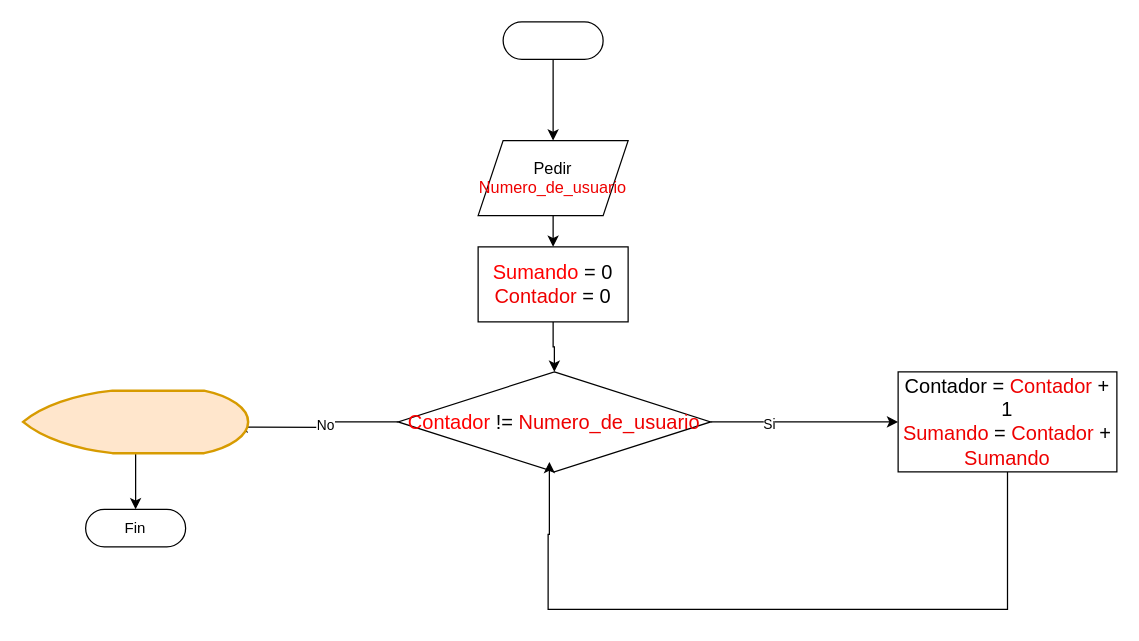
Image size: 1139x641. Some labels were removed from this diagram. The box of each missing label's shape, as (x1, y1, x2, y2) in pixels:
Inicio: (502, 21, 603, 59)
Mostrar “El Resultado final es:”, Sumando: (21, 389, 249, 454)
